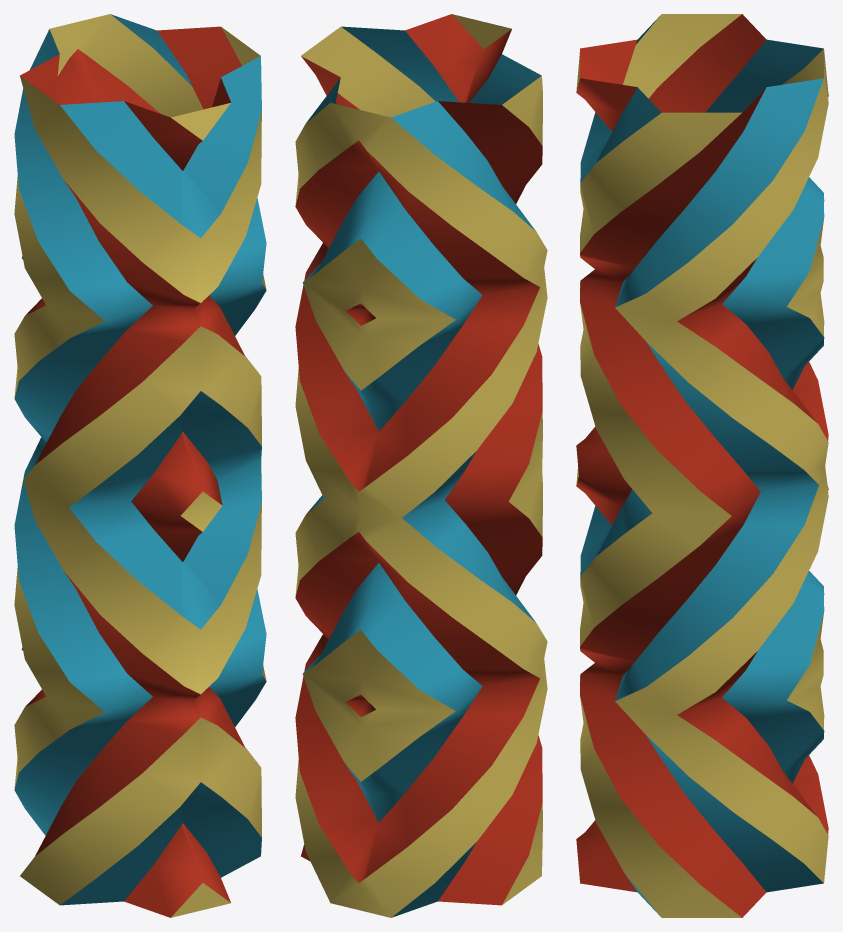
Rendered from tower_d.FBX.
3 views of the same model, side by side, from view 1: azimuth 30°, elevation 25°; view 2: azimuth 150°, elevation 25°; view 3: azimuth 270°, elevation 25° (orthographic).
Parts seen in each view (by area): view 1: Object024; view 2: Object024; view 3: Object024.
Boxes of the visible parts, x1=… form: Object024: x1=14, y1=14, x2=266, y2=917; Object024: x1=295, y1=14, x2=547, y2=917; Object024: x1=576, y1=14, x2=828, y2=917.
Bounding box in the file's own units: 5045 × 17719 × 5032.
